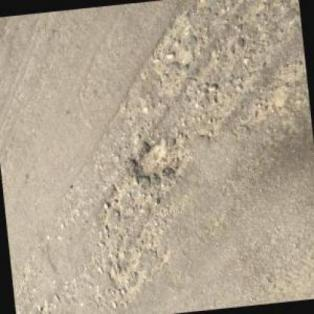Hueco: (128, 134, 184, 183), (100, 184, 127, 214)
